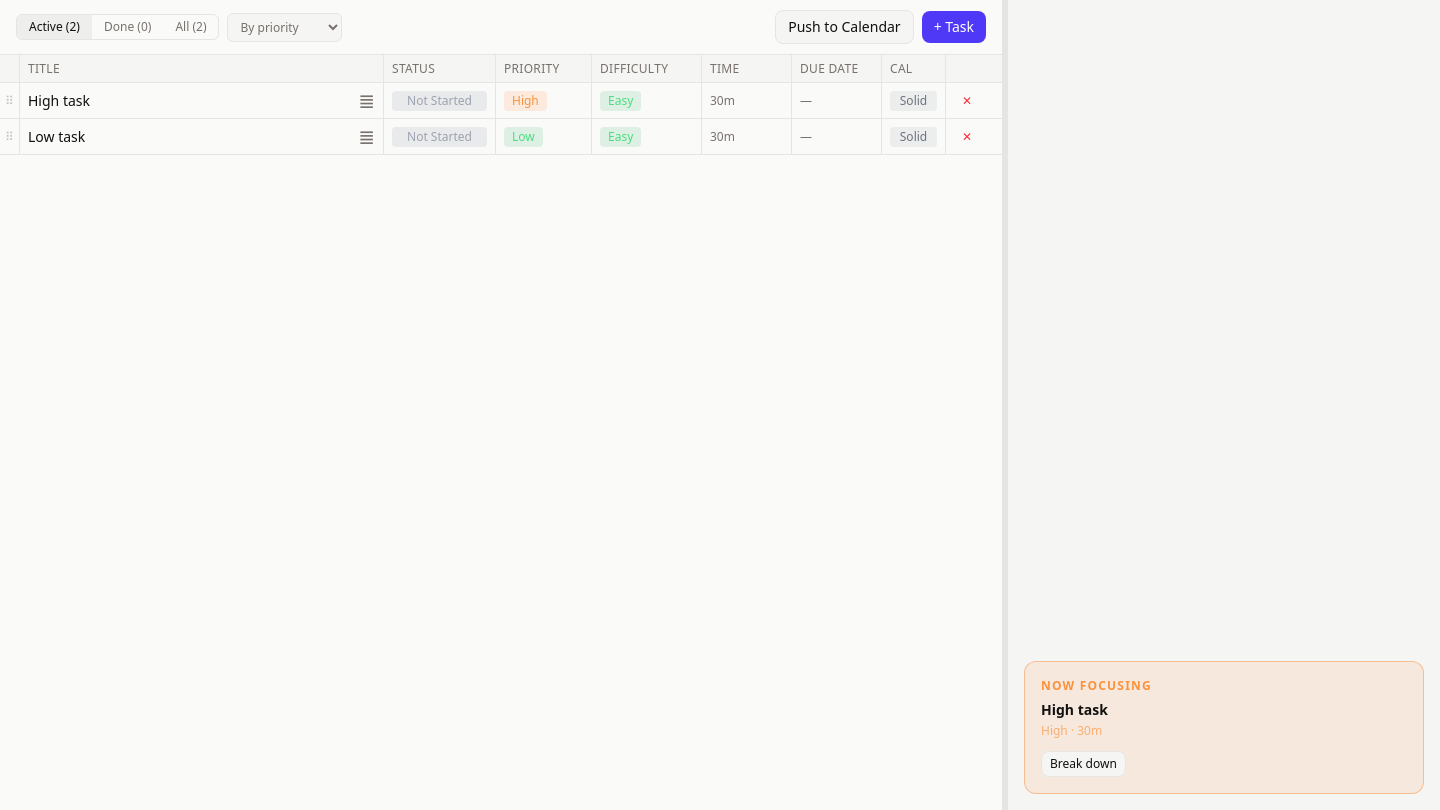
WorkspacePage regressions › new task renders as a normal row at the very bottom of the list
Click the button "+ Task". click: x=954, y=27
box: [922,11,986,43]
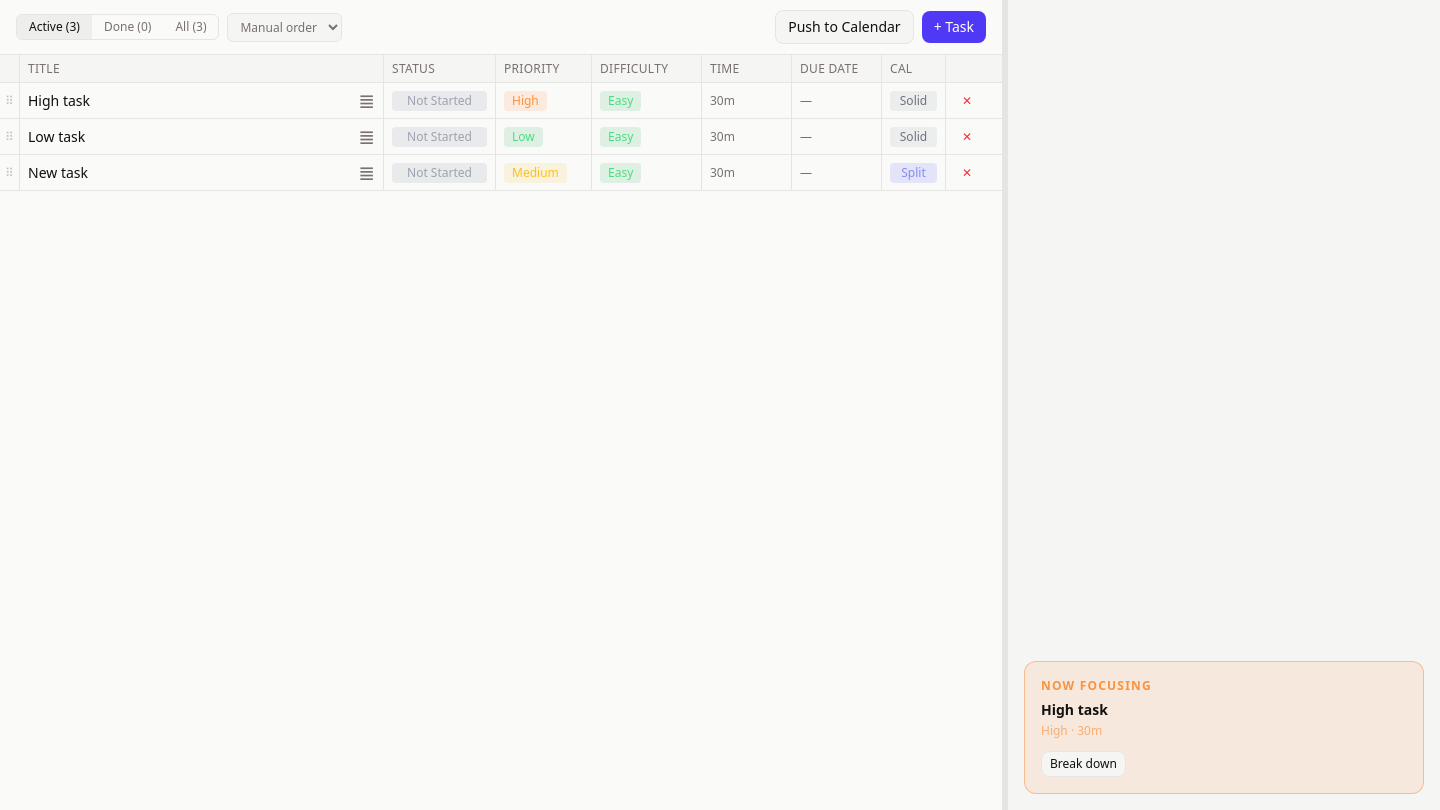
Check: the element with class "overflow-y-auto" that starts with "High task" is shown, box [0,83,1002,191]
Check: the text "New task" is shown, box [28,162,88,182]
Check: the button "Split" is shown, box [890,162,937,182]
